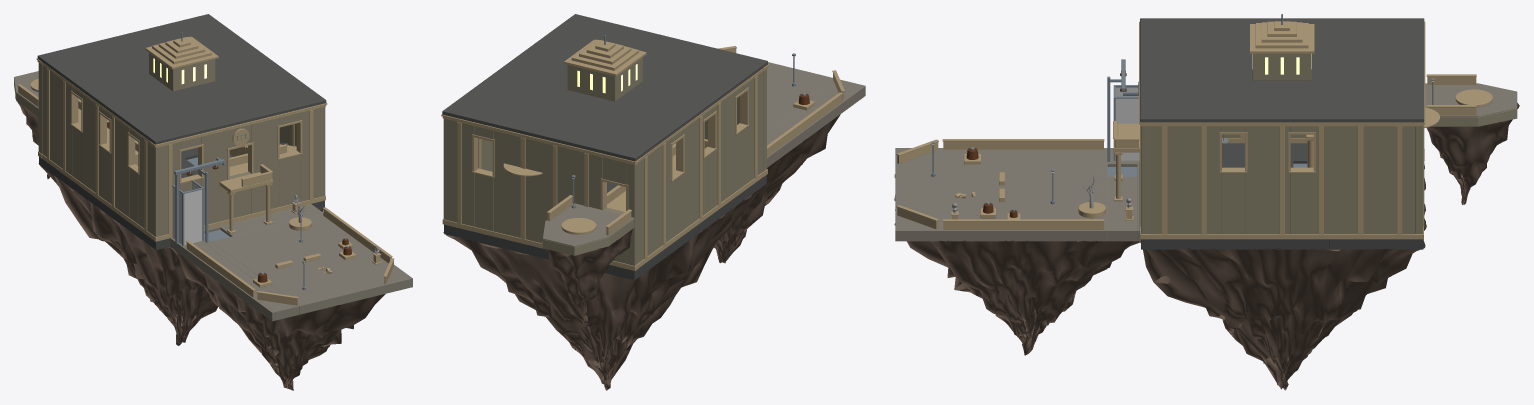
The model's file is d_weighhouse.glb.
The picture shows the model from 3 angles, left to right: view 1: azimuth 30°, elevation 25°; view 2: azimuth 150°, elevation 25°; view 3: azimuth 270°, elevation 25°; orthographic projection. The views are drawn at different scales.
Visible parts, largest first — view 1: island_d_weighhouse, chunk_forecourt; view 2: island_d_weighhouse, chunk_forecourt; view 3: island_d_weighhouse, chunk_forecourt.
Boxes of the visible parts, <box> form: island_d_weighhouse: <box>14,14,327,345</box>; chunk_forecourt: <box>170,157,412,390</box>; island_d_weighhouse: <box>441,14,769,390</box>; chunk_forecourt: <box>714,46,865,263</box>; island_d_weighhouse: <box>1113,14,1519,390</box>; chunk_forecourt: <box>894,59,1140,355</box>.
Size of the model in its own units: 24.61 by 42.57 by 63.86.
